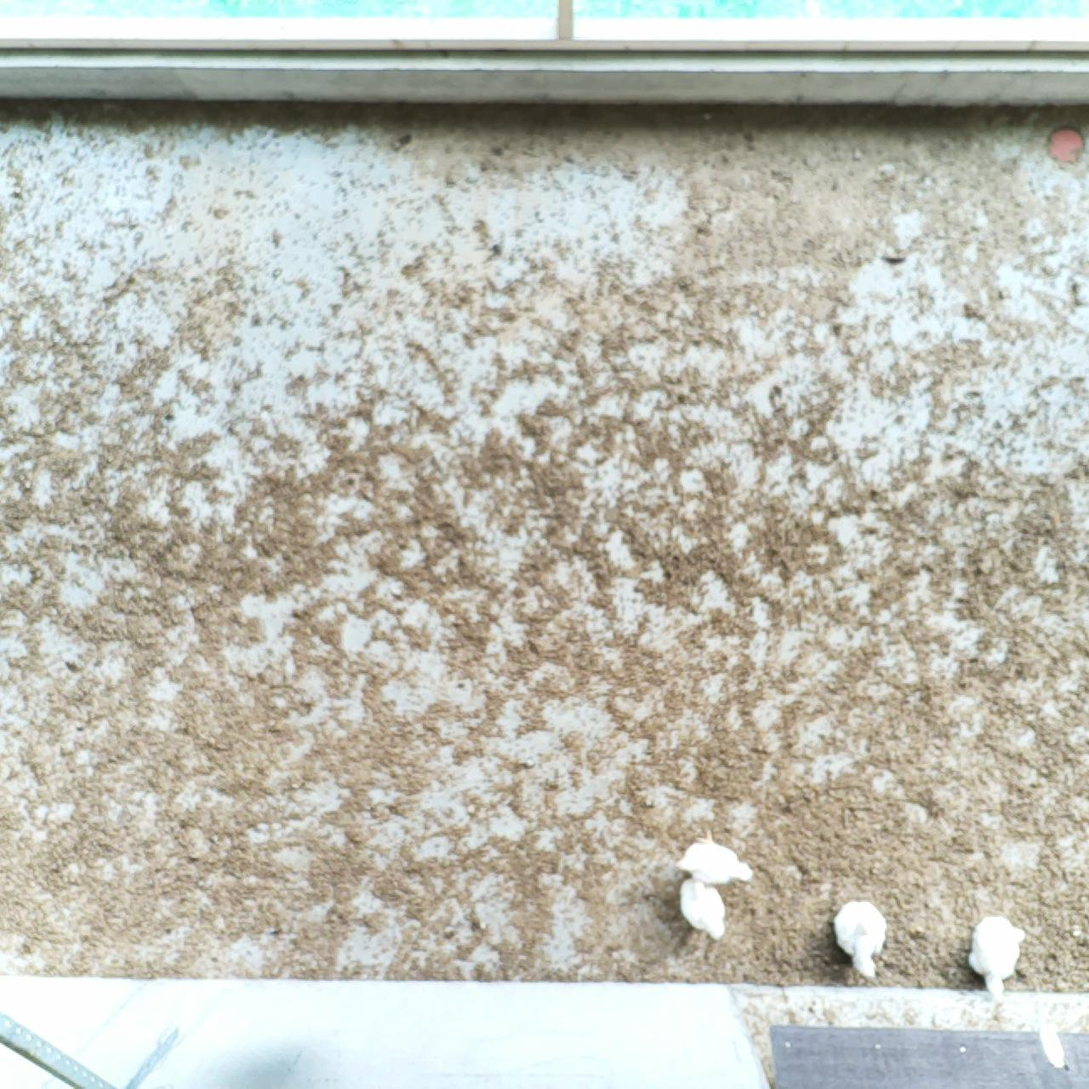chicken: (965, 910, 1028, 996), (830, 892, 892, 977), (682, 830, 763, 889), (672, 871, 730, 942)
